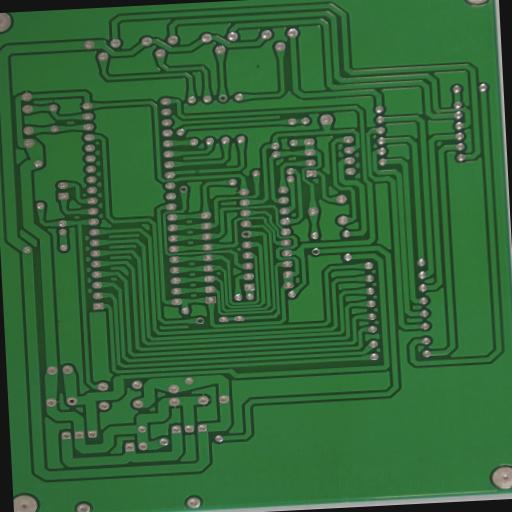missing_hole: (64, 396, 78, 406), (240, 230, 252, 239), (178, 184, 188, 194), (194, 316, 204, 326), (310, 247, 320, 256), (217, 94, 227, 103)
